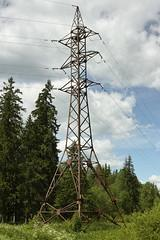power_tower: (44, 6, 128, 230)
